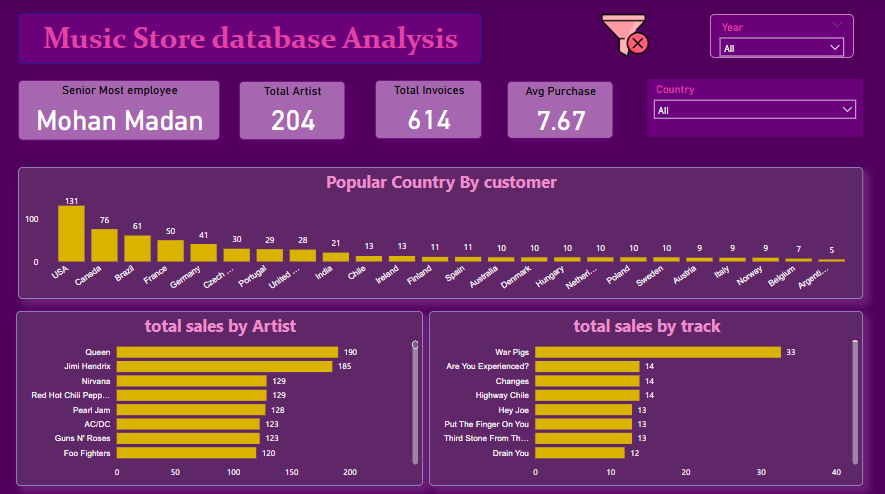

This screenshot's page, from the dashboard's own definition file:
{"tool":"powerbi","page":{"name":"Analysis","canvas":[1280,720],"ordinal":1},"visuals":[{"type":"slicer","fields":{"Values":["invoice.billing_country"]},"box":[933.9,115.9,311.3,82.8],"z":0},{"type":"card","title":"Total revenue","fields":{"Values":["invoice_line.total sales"]},"box":[28.2,115.9,154,82.8],"z":2000},{"type":"slicer","fields":{"Values":["invoice.invoice_date.Variation.Date Hierarchy.Year"]},"box":[1025,21.5,207,62.9],"z":3000},{"type":"textbox","box":[0,22,640,81.1],"z":4000},{"type":"card","title":"Total Artist","fields":{"Values":["Count(album2.artist_id)"]},"box":[219.9,115.1,152.9,84.2],"z":5000},{"type":"card","title":"Avg Purchase ","fields":{"Values":["invoice_line.Average purchase value"]},"box":[620.2,113.4,152.9,84.2],"z":6000},{"type":"clusteredBarChart","fields":{"Y":["invoice_line.total sales"],"Category":["artist.name"]},"box":[26.5,448.7,586.2,271.6],"z":7000},{"type":"clusteredBarChart","fields":{"Y":["invoice_line.total sales"],"Category":["track.name"]},"box":[621,448.7,624.3,271.6],"z":9001},{"type":"columnChart","title":"Popular Country By customer","fields":{"Category":["invoice.billing_country"],"Y":["CountNonNull(invoice.customer_id)"]},"box":[28.2,241.8,1217.1,190.4],"z":9002},{"type":"card","title":"Total Invoices","fields":{"Values":["invoice.Count Of Invoice"]},"box":[422.7,113.4,154.6,84.2],"z":9003},{"type":"image","box":[829.6,13.2,147.4,79.5],"z":9004}]}

Visuals, with their boxes in screenshot pixels (x1, y1, x2, y2), scaled from the page's 1280x720 canvas onto the 885x494 screenshot:
slicer - invoice.billing_country: bbox=(646, 80, 861, 136)
"Total revenue" card: bbox=(19, 80, 126, 136)
slicer - invoice.invoice_date.Variation.Date Hierarchy.Year: bbox=(709, 15, 852, 58)
textbox: bbox=(0, 15, 442, 71)
"Total Artist" card: bbox=(152, 79, 258, 137)
"Avg Purchase " card: bbox=(429, 78, 535, 136)
clusteredBarChart - invoice_line.total sales x artist.name: bbox=(18, 308, 424, 493)
clusteredBarChart - invoice_line.total sales x track.name: bbox=(429, 308, 861, 493)
"Popular Country By customer" columnChart: bbox=(19, 166, 861, 297)
"Total Invoices" card: bbox=(292, 78, 399, 136)
image: bbox=(574, 9, 676, 64)
